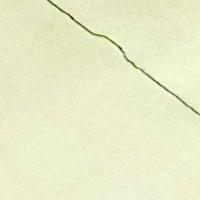crack: (40, 0, 199, 127)
